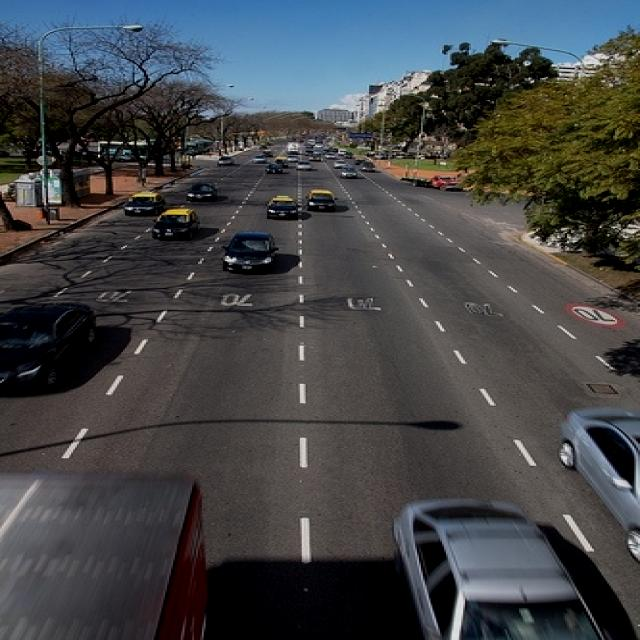Caminhao: (0, 471, 213, 640)
Carro Prata: (382, 482, 587, 640), (547, 402, 640, 562)
Carro Preto: (0, 294, 96, 404), (217, 230, 282, 274), (150, 206, 201, 241), (119, 186, 169, 219), (301, 182, 333, 217), (177, 180, 223, 203), (268, 191, 302, 218)
